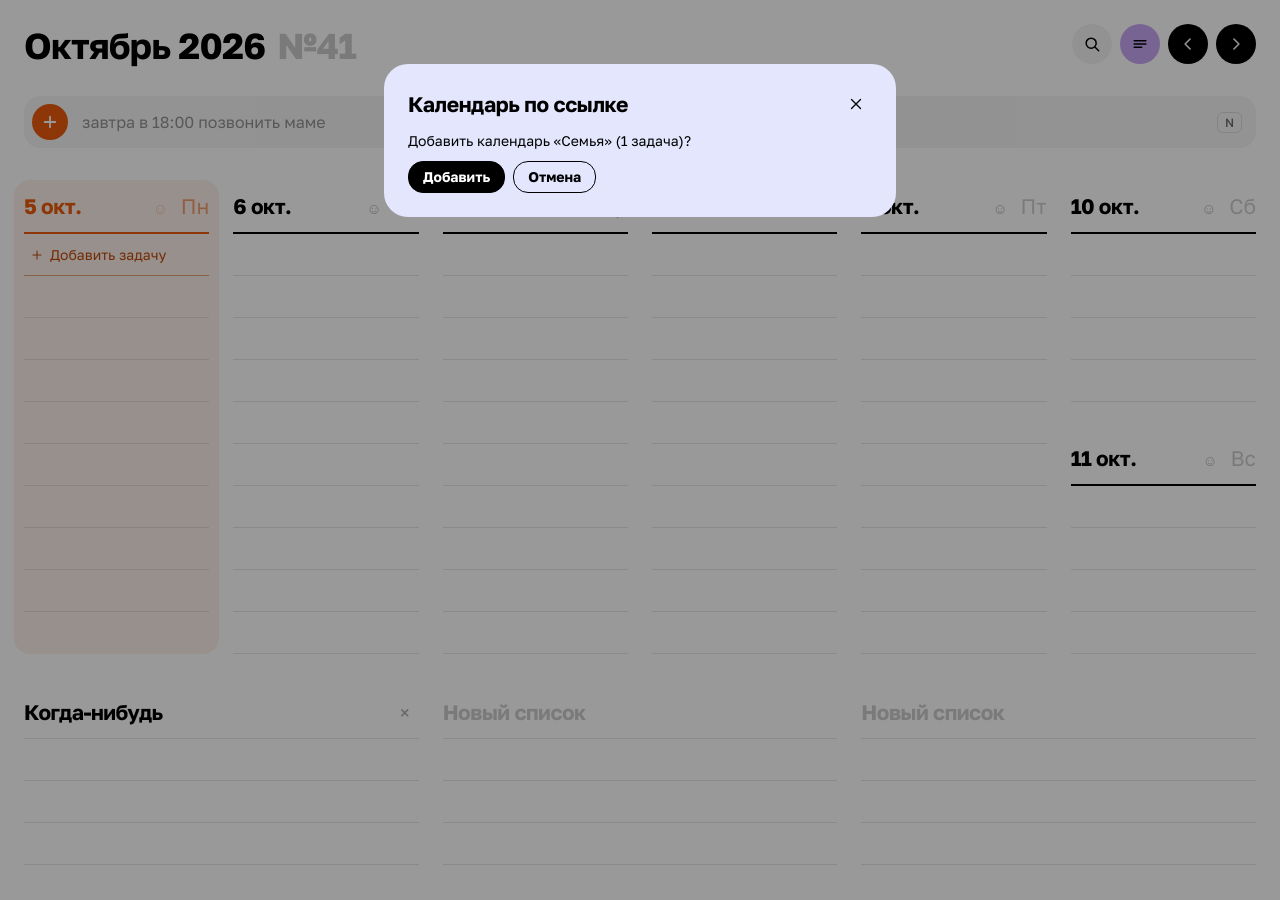
календарь по ссылке › спрашивает, добавляет и переключается на него
expect the text "Добавить календарь «Семья» (1 задача)?" is shown: met, box [408,132,691,149]
Click the button "Добавить".
click(457, 177)  # box [408,161,505,193]
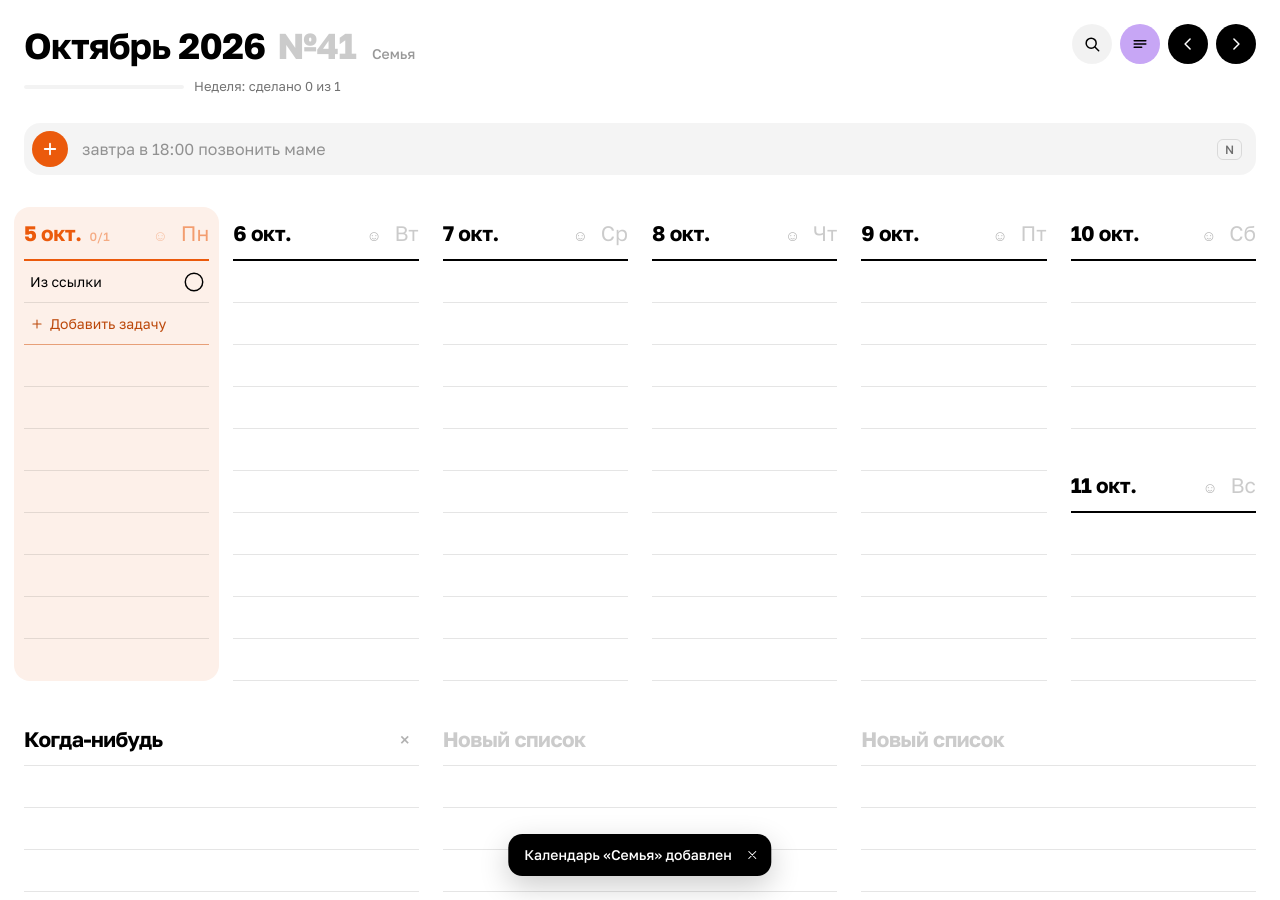
expect the text "Семья" is shown: met, box [372,47,416,61]
expect the checkbox named "Из ссылки" is shown: met, box [176,272,209,292]
